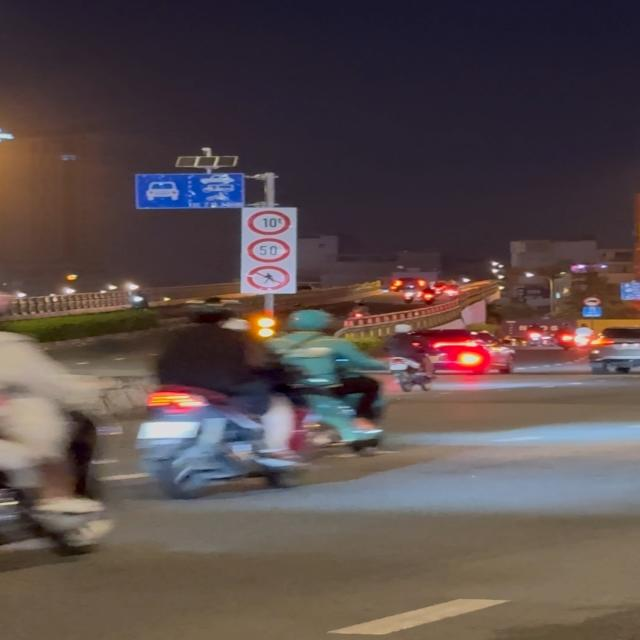Bien bao cam nguoi di bo: (246, 264, 291, 291)
Bien bao toc do toi da cho phep: (245, 237, 293, 264)
